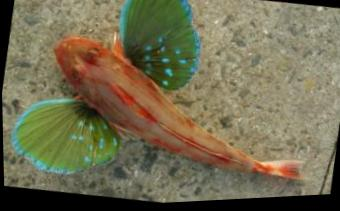fish: (9, 0, 306, 183)
